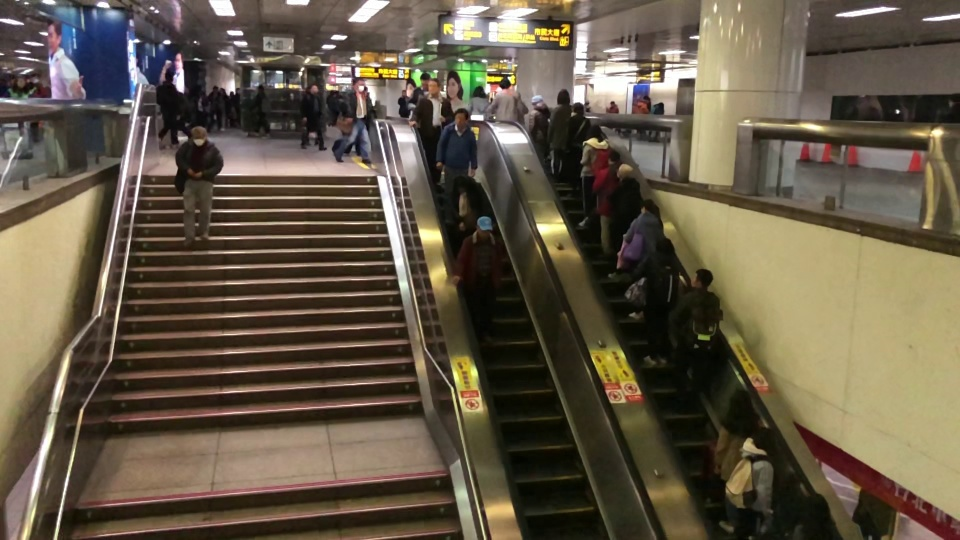person_head: (798, 493, 831, 529), (752, 427, 777, 457), (727, 389, 751, 415), (473, 215, 493, 242), (690, 267, 713, 290), (190, 125, 208, 148), (654, 237, 674, 256), (453, 107, 469, 130), (616, 163, 634, 183), (452, 173, 469, 193), (640, 198, 658, 215), (426, 77, 441, 97), (350, 76, 366, 94), (555, 88, 571, 105), (606, 150, 621, 168), (946, 92, 960, 110), (588, 123, 602, 140), (419, 72, 431, 91), (571, 101, 584, 117), (13, 76, 27, 90), (531, 95, 545, 109), (498, 76, 511, 91), (306, 83, 319, 96), (472, 85, 485, 98), (163, 69, 174, 82), (30, 73, 41, 84), (256, 84, 265, 94), (212, 85, 219, 96), (218, 87, 225, 96), (643, 95, 650, 104), (657, 101, 664, 110), (197, 89, 205, 96), (400, 89, 407, 97), (333, 90, 340, 97), (234, 87, 240, 95), (362, 86, 368, 94), (228, 91, 234, 98), (328, 89, 334, 96), (609, 100, 615, 107), (584, 100, 590, 106)
person_vbox: (666, 267, 720, 415), (712, 389, 765, 534), (451, 215, 503, 345), (630, 237, 680, 367), (174, 125, 224, 249), (407, 77, 454, 194), (434, 108, 478, 224), (622, 198, 663, 322), (738, 427, 778, 540), (606, 163, 643, 281), (591, 150, 622, 262), (333, 76, 372, 165), (577, 122, 609, 228), (447, 173, 487, 253), (564, 102, 591, 198), (851, 486, 897, 540), (784, 494, 837, 540), (547, 88, 572, 181), (298, 83, 328, 152), (527, 95, 552, 177), (155, 69, 180, 150), (485, 76, 528, 123), (28, 74, 49, 141), (247, 84, 271, 140), (407, 72, 432, 119), (465, 84, 491, 120), (175, 92, 192, 144), (632, 95, 651, 141), (206, 85, 224, 133), (646, 101, 664, 143), (362, 87, 377, 133), (2, 76, 33, 98), (938, 92, 960, 123), (196, 89, 211, 124), (330, 89, 343, 127), (219, 87, 230, 130), (397, 89, 411, 117), (325, 89, 334, 127), (227, 91, 235, 129), (234, 87, 240, 129), (605, 100, 619, 114), (583, 100, 595, 112)
